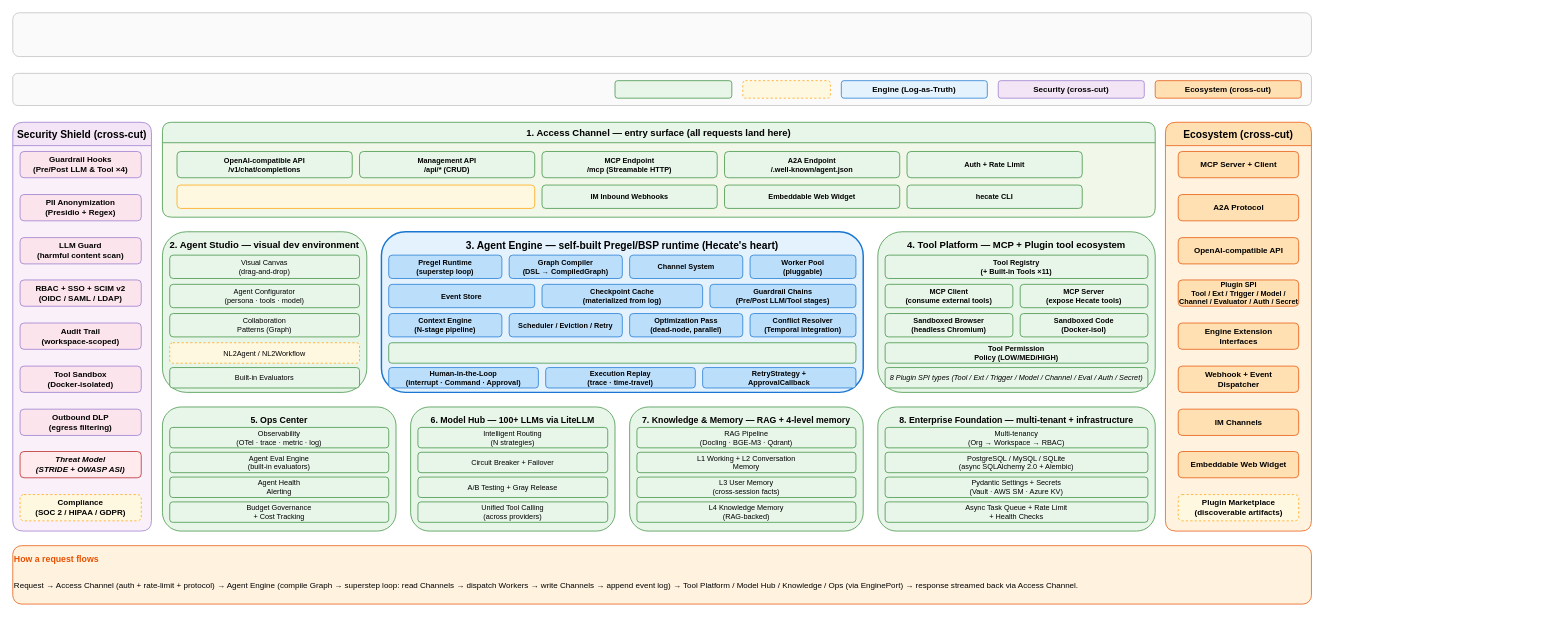
Some shapes in this 1562 by 617 pixel diagram are drawn without their labels. Each missing label, with the centre of its shape:
Dashboard (React · Next.js · React Flow): (355,196)
Engine Extension Interfaces (pluggable scheduler · checkpoint · guardrail · …): (622,352)
Hecate L1 Architecture: (661,34)
Implemented: (673,89)
Planned: (786,89)
